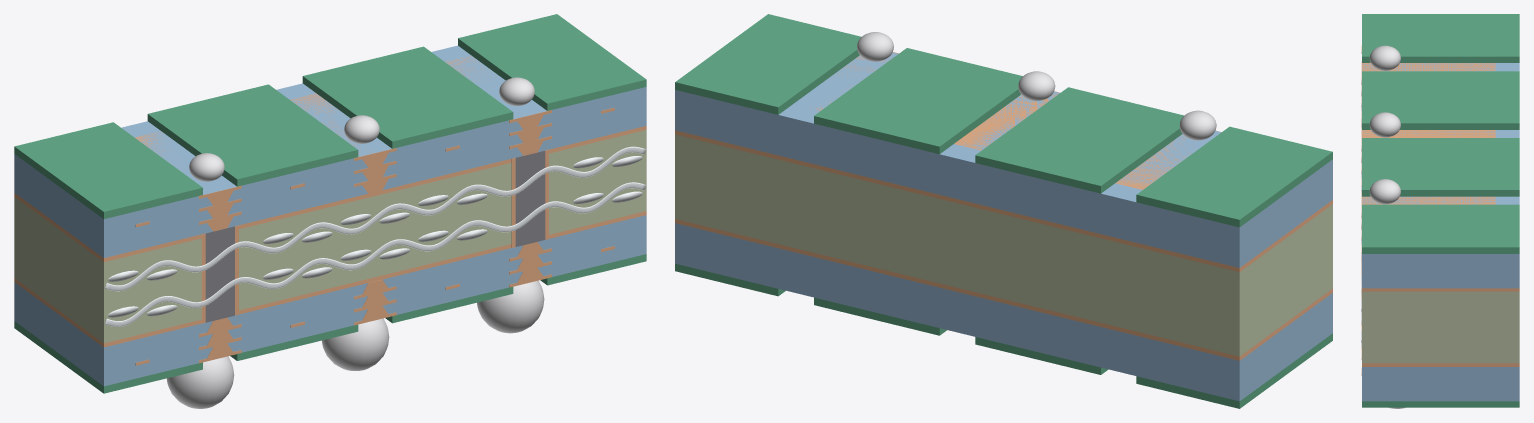
The model's file is substrate_section.glb.
3 renders of one model, left to right at view 1: azimuth 30°, elevation 25°; view 2: azimuth 150°, elevation 25°; view 3: azimuth 270°, elevation 25°, orthographic. The views are drawn at different scales.
Parts seen in each view (by area): view 1: core_dielectric, abf_top_3, mask_top_2, mask_top_1, mask_top_0, mask_top_3, abf_bot_1, abf_top_1, abf_bot_3, abf_bot_2, abf_top_2, glass_yarn_warp_1 (+18 smaller); view 2: core_dielectric, abf_top_3, mask_top_1, mask_top_2, mask_top_0, mask_top_3, abf_top_2, abf_top_1, abf_bot_1, abf_bot_3, abf_bot_2, cu_core_top (+10 smaller); view 3: core_dielectric, mask_top_1, mask_top_2, mask_top_3, mask_top_0, abf_top_3, abf_top_1, abf_bot_3, abf_top_2, abf_bot_1, abf_bot_2, mask_bot_3 (+9 smaller).
Part boxes in pixels (bbox=[...]): core_dielectric: bbox=[14, 130, 646, 343]; abf_top_3: bbox=[14, 45, 646, 231]; mask_top_2: bbox=[302, 46, 513, 148]; mask_top_1: bbox=[147, 84, 358, 186]; mask_top_0: bbox=[14, 122, 202, 218]; mask_top_3: bbox=[458, 14, 646, 110]; abf_bot_1: bbox=[14, 215, 646, 360]; abf_top_1: bbox=[14, 113, 646, 257]; abf_bot_3: bbox=[14, 241, 646, 386]; abf_bot_2: bbox=[14, 228, 646, 373]; abf_top_2: bbox=[14, 100, 646, 244]; glass_yarn_warp_1: bbox=[104, 146, 646, 291]; core_dielectric: bbox=[675, 134, 1332, 356]; abf_top_3: bbox=[675, 52, 1332, 240]; mask_top_1: bbox=[975, 87, 1183, 193]; mask_top_2: bbox=[814, 48, 1022, 154]; mask_top_0: bbox=[1136, 126, 1332, 227]; mask_top_3: bbox=[675, 14, 861, 114]; abf_top_2: bbox=[675, 103, 1332, 254]; abf_top_1: bbox=[675, 117, 1332, 267]; abf_bot_1: bbox=[675, 223, 1332, 374]; abf_bot_3: bbox=[675, 250, 1332, 401]; abf_bot_2: bbox=[675, 236, 1332, 387]; cu_core_top: bbox=[675, 130, 1332, 272]; core_dielectric: bbox=[1362, 291, 1519, 363]; mask_top_1: bbox=[1362, 71, 1519, 129]; mask_top_2: bbox=[1362, 138, 1519, 196]; mask_top_3: bbox=[1362, 204, 1519, 253]; mask_top_0: bbox=[1362, 14, 1519, 62]; abf_top_3: bbox=[1362, 63, 1519, 265]; abf_top_1: bbox=[1362, 276, 1519, 288]; abf_bot_3: bbox=[1362, 389, 1519, 401]; abf_top_2: bbox=[1362, 265, 1519, 276]; abf_bot_1: bbox=[1362, 367, 1519, 378]; abf_bot_2: bbox=[1362, 378, 1519, 389]; mask_bot_3: bbox=[1362, 401, 1519, 407].
Bounding box in the file's own units: 7 × 3.15 × 2.01.
